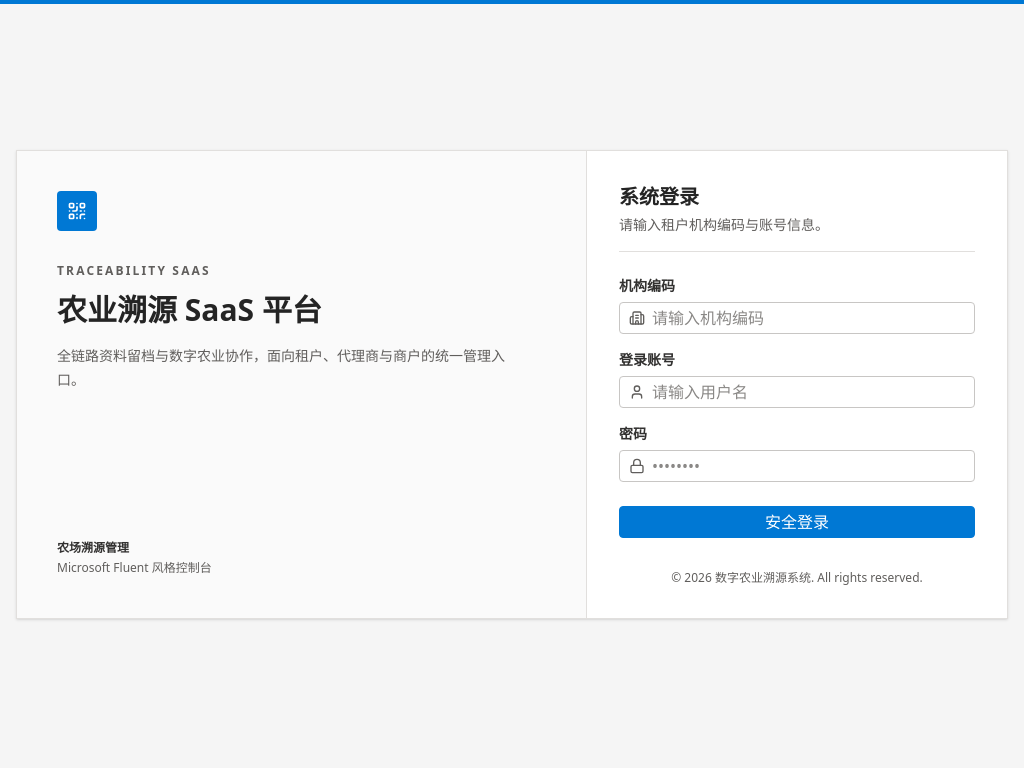
Test: AppLogin Fluent login › shows readable fallback copy when login fails without an Error
Type "tenant-a" into the field labelled "机构编码". click: (797, 318)
box: [619,302,975,334]
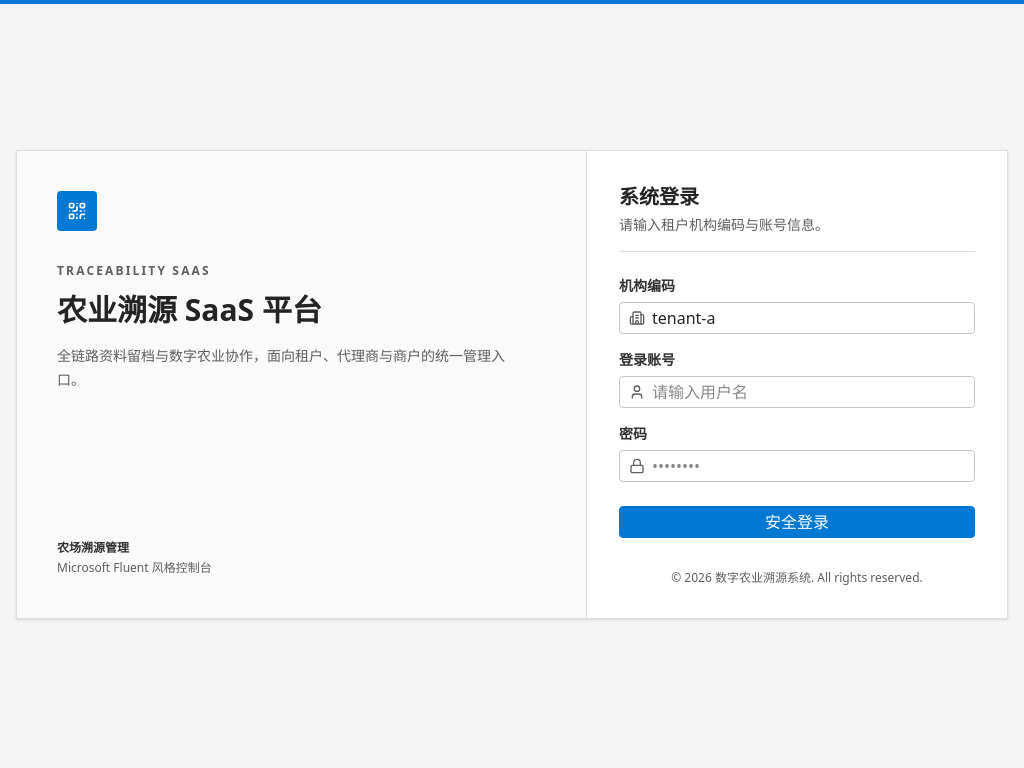
Type "admin" into the field labelled "登录账号". click: (797, 392)
box: [619,376,975,408]
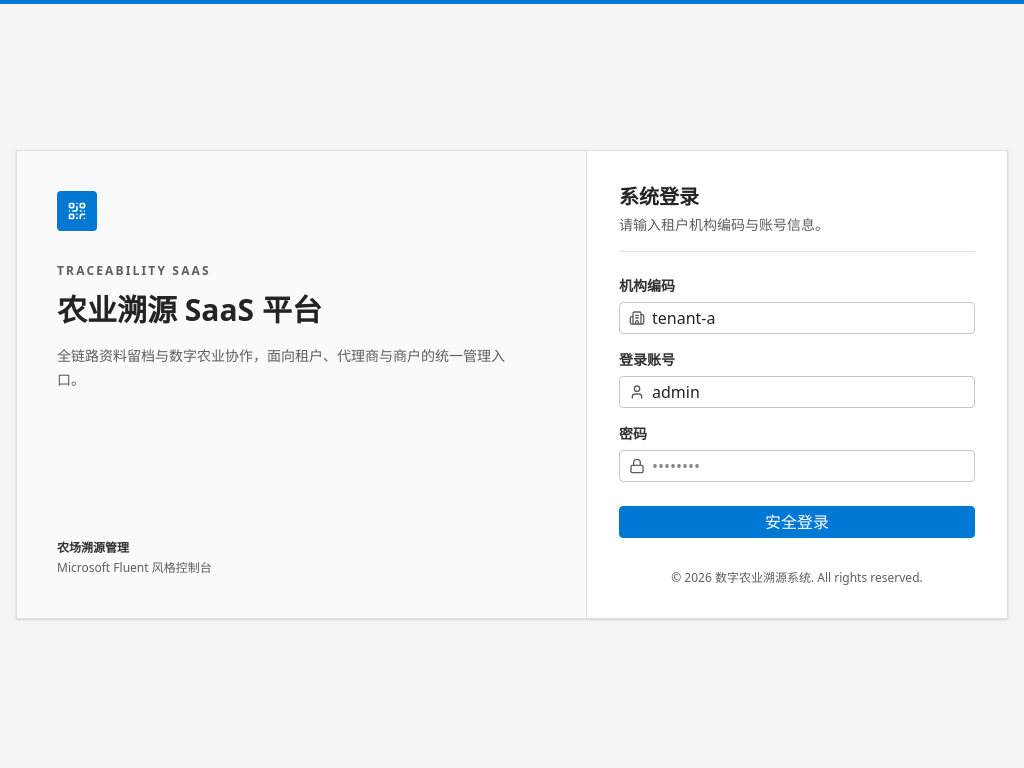
Type "secret" into the password field labelled "密码". click: (797, 466)
box: [619,450,975,482]
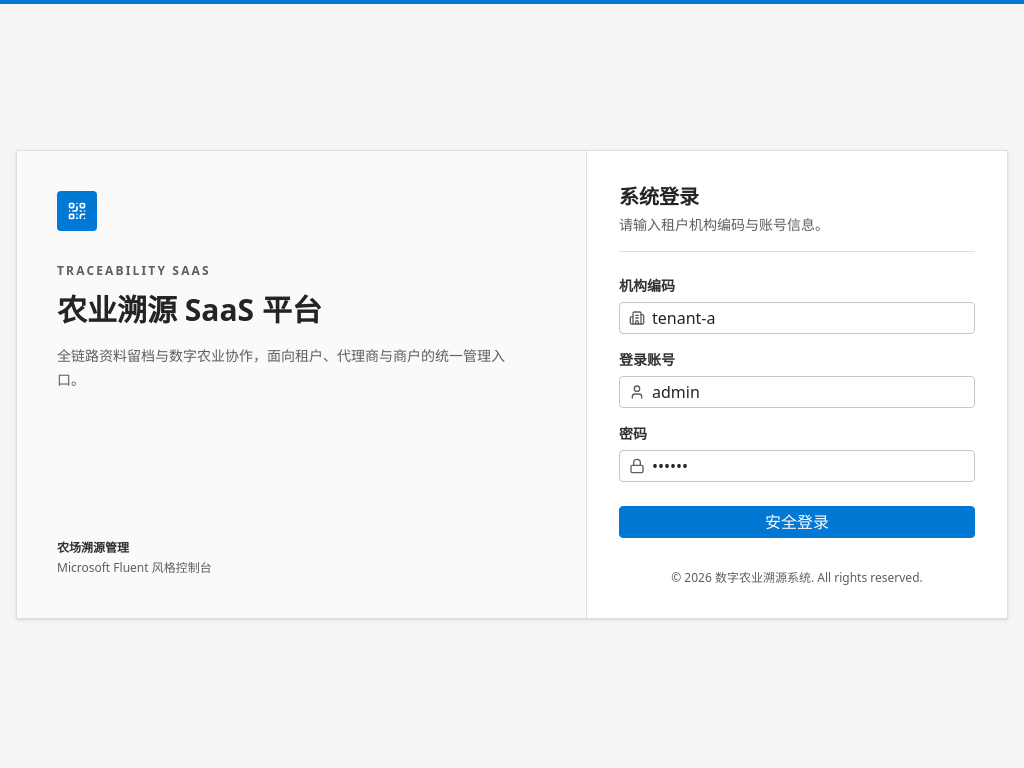
Click the button "安全登录". click: (797, 522)
box: [619,506,975,538]
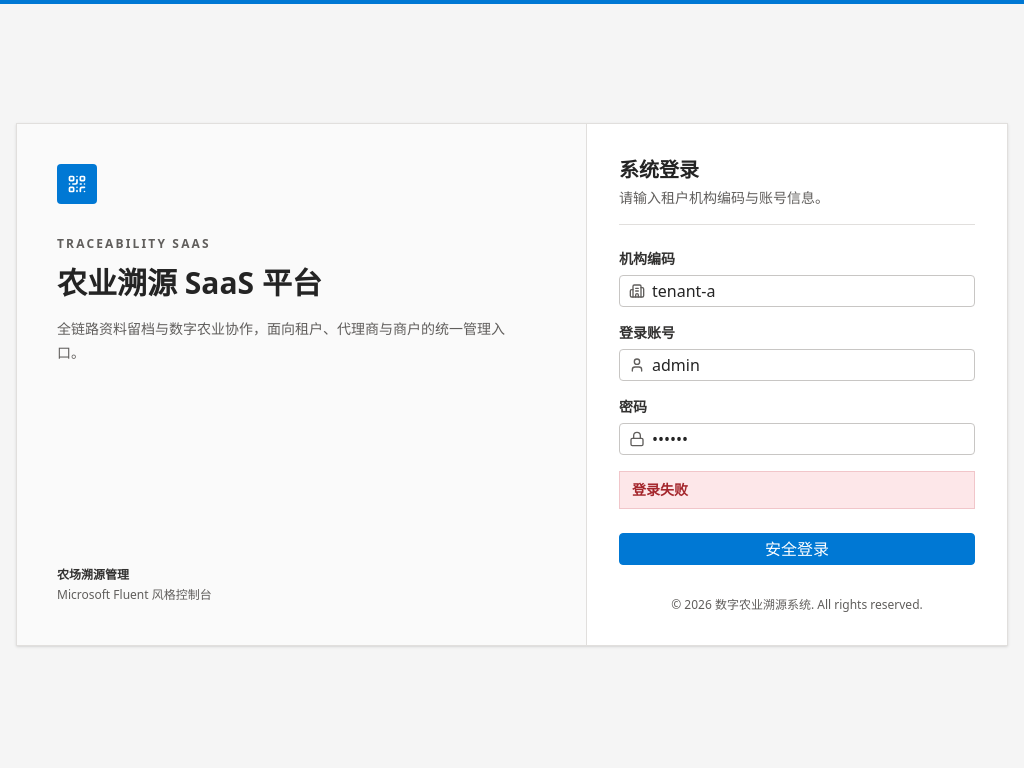
Result: the text "登录失败" is shown at [619,470,975,508]
